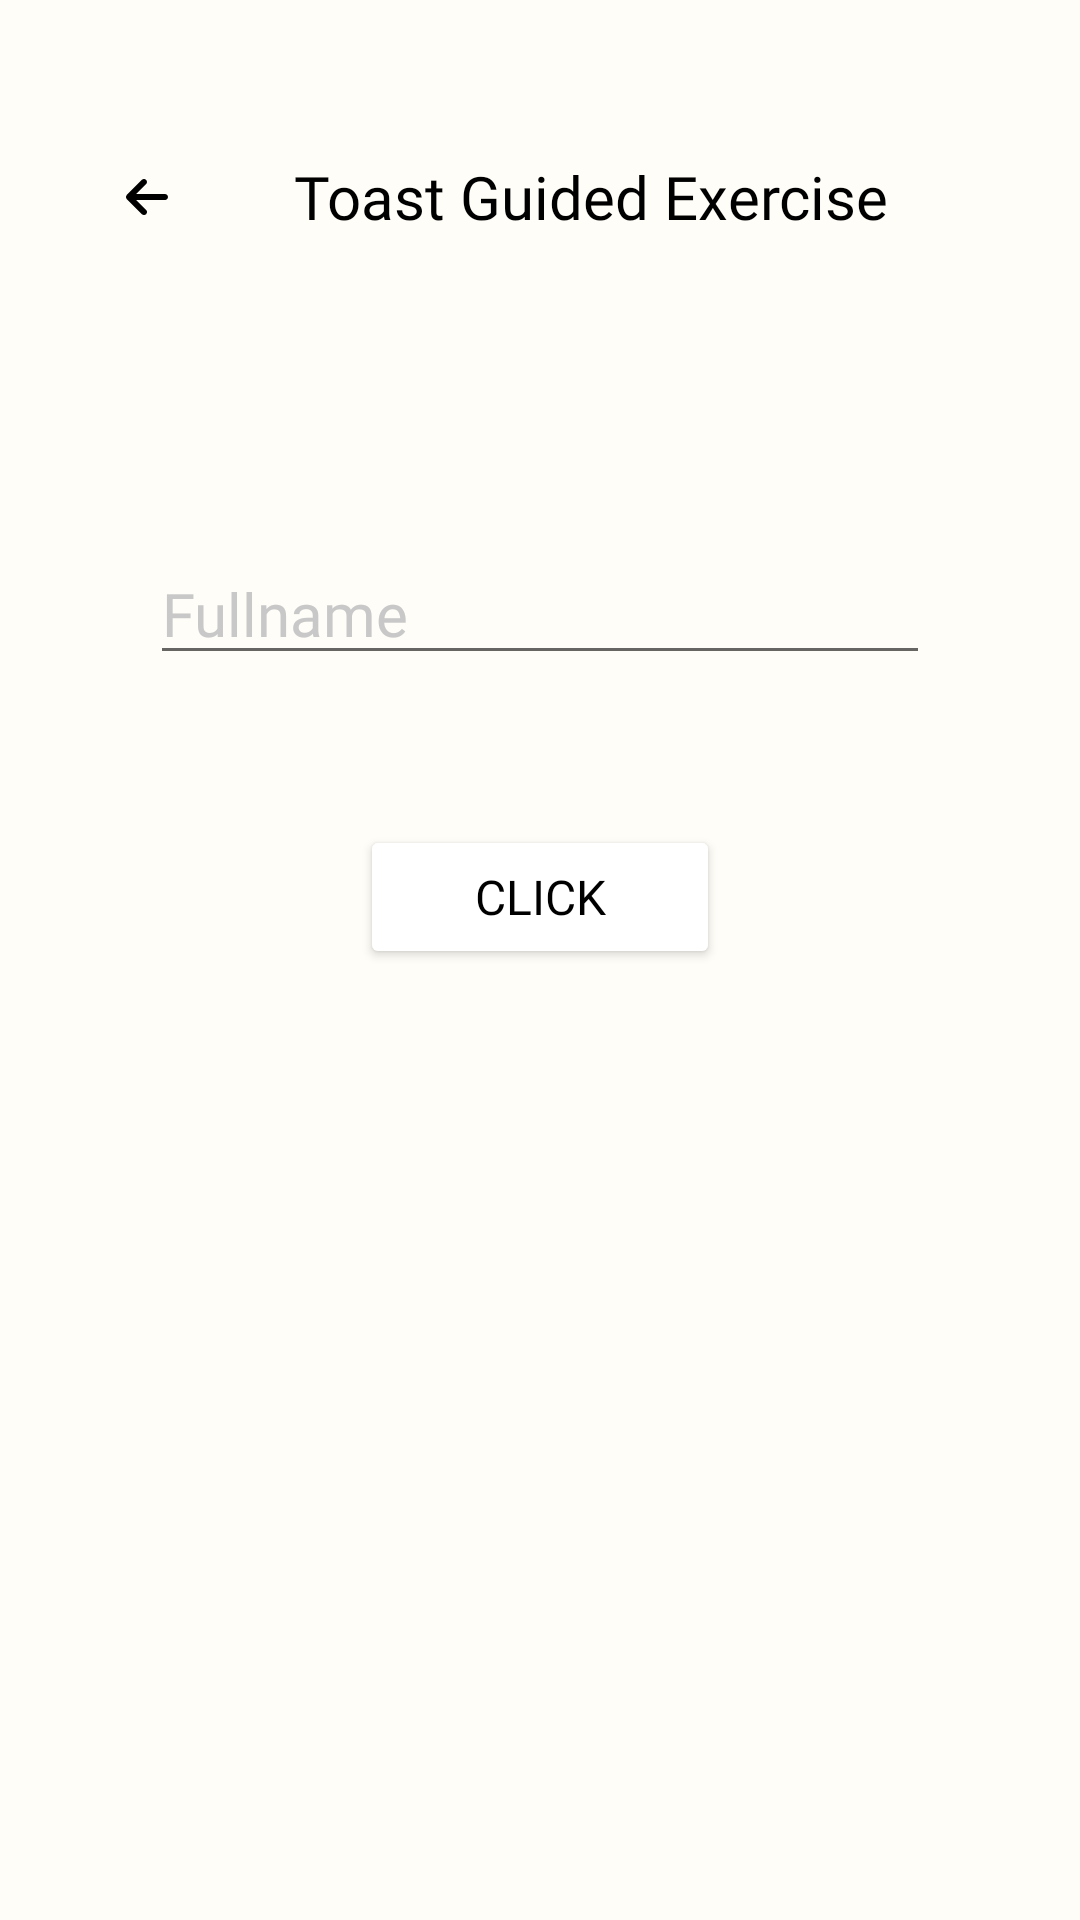

Named icons in this screenshot (1080w x 1920h) and their bounding boxes, (x1, y1, x2, y2):
backarrow: (126, 179, 168, 215)
